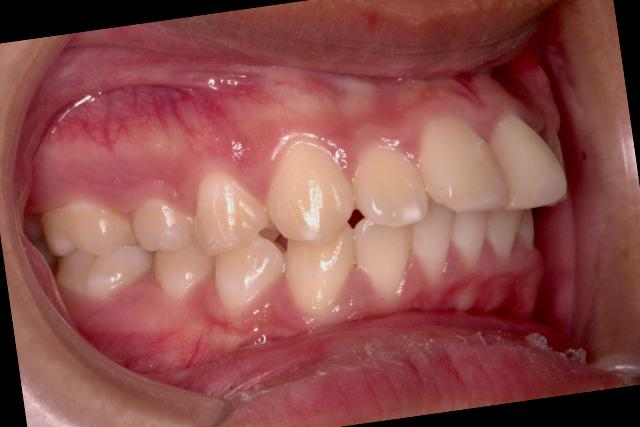canine class II 1/2: (196, 124, 370, 324)
molar class II 1/4: (31, 183, 158, 310)
